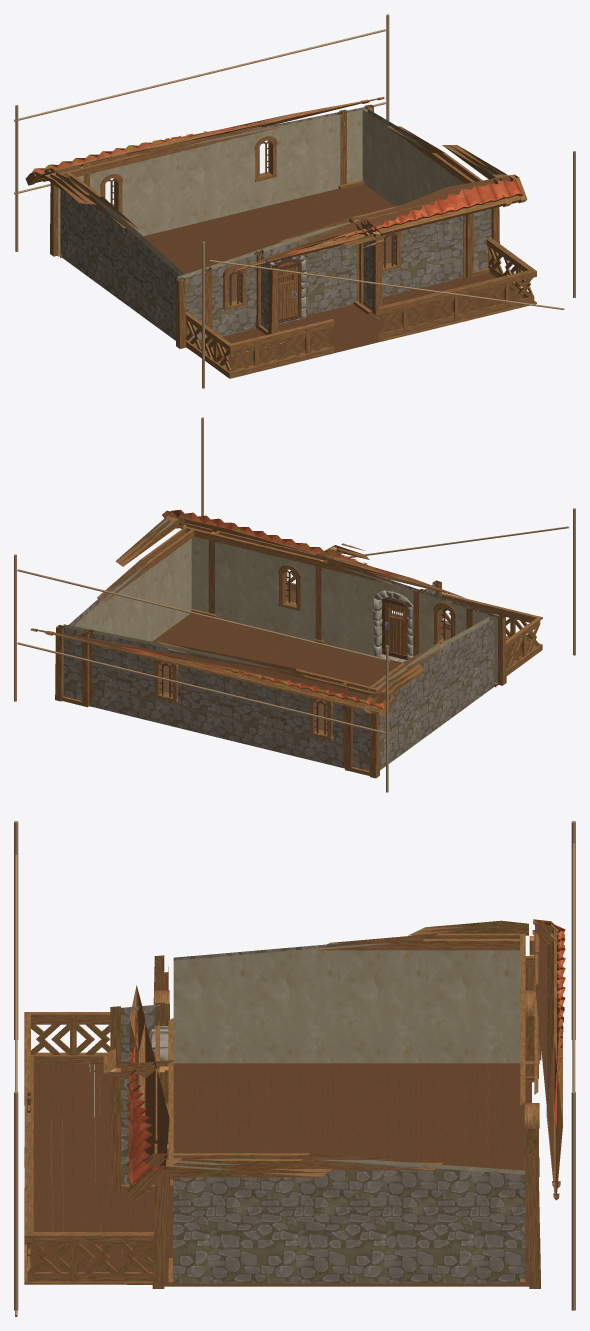
Rendered from Building4Whole_P2.glb.
3 renders of one model, top to bottom at view 1: azimuth 30°, elevation 25°; view 2: azimuth 150°, elevation 25°; view 3: azimuth 270°, elevation 25°, orthographic. The views are drawn at different scales.
Size of the model in its own units: 14.63 by 5.81 by 12.73.
8 materials, 6 textured.
